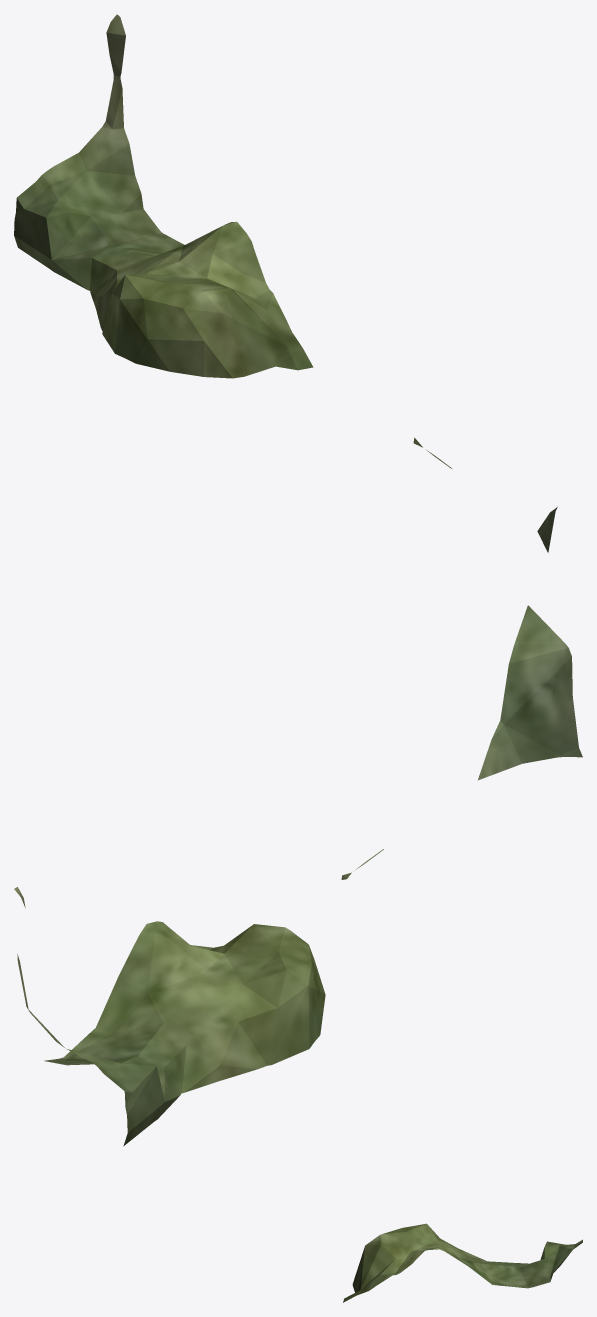
3 views of the same model, one above another, from view 1: azimuth 30°, elevation 25°; view 2: azimuth 150°, elevation 25°; view 3: azimuth 270°, elevation 25° (orthographic). The views are drawn at different scales.
Size of the model in its own units: 0.4932 by 0.7315 by 2.95.
Materials: 1 (1 with a texture image).
